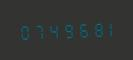eight: (87, 19, 100, 38)
four: (45, 20, 58, 40)
nine: (59, 20, 72, 39)
one: (101, 18, 114, 38)
seven: (31, 21, 44, 40)
six: (73, 19, 86, 39)
zero: (17, 21, 30, 41)
